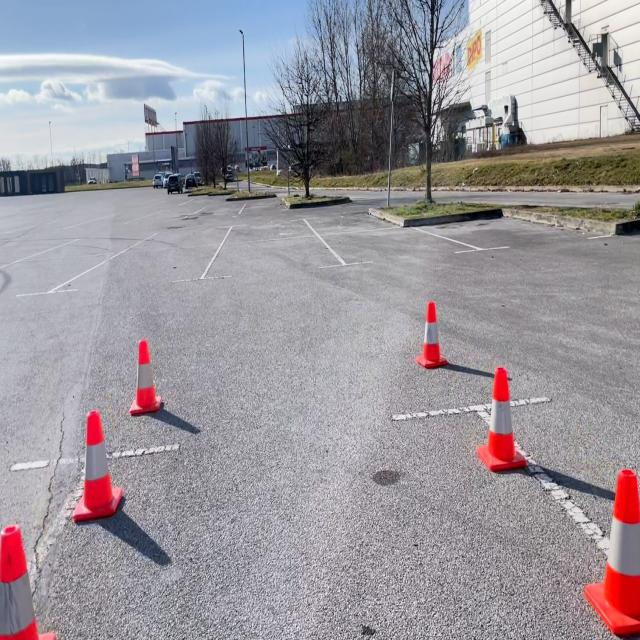orange_cone: (584, 463, 639, 636), (0, 520, 52, 640), (71, 408, 122, 524), (476, 363, 528, 472), (128, 336, 163, 415), (414, 299, 449, 368)
